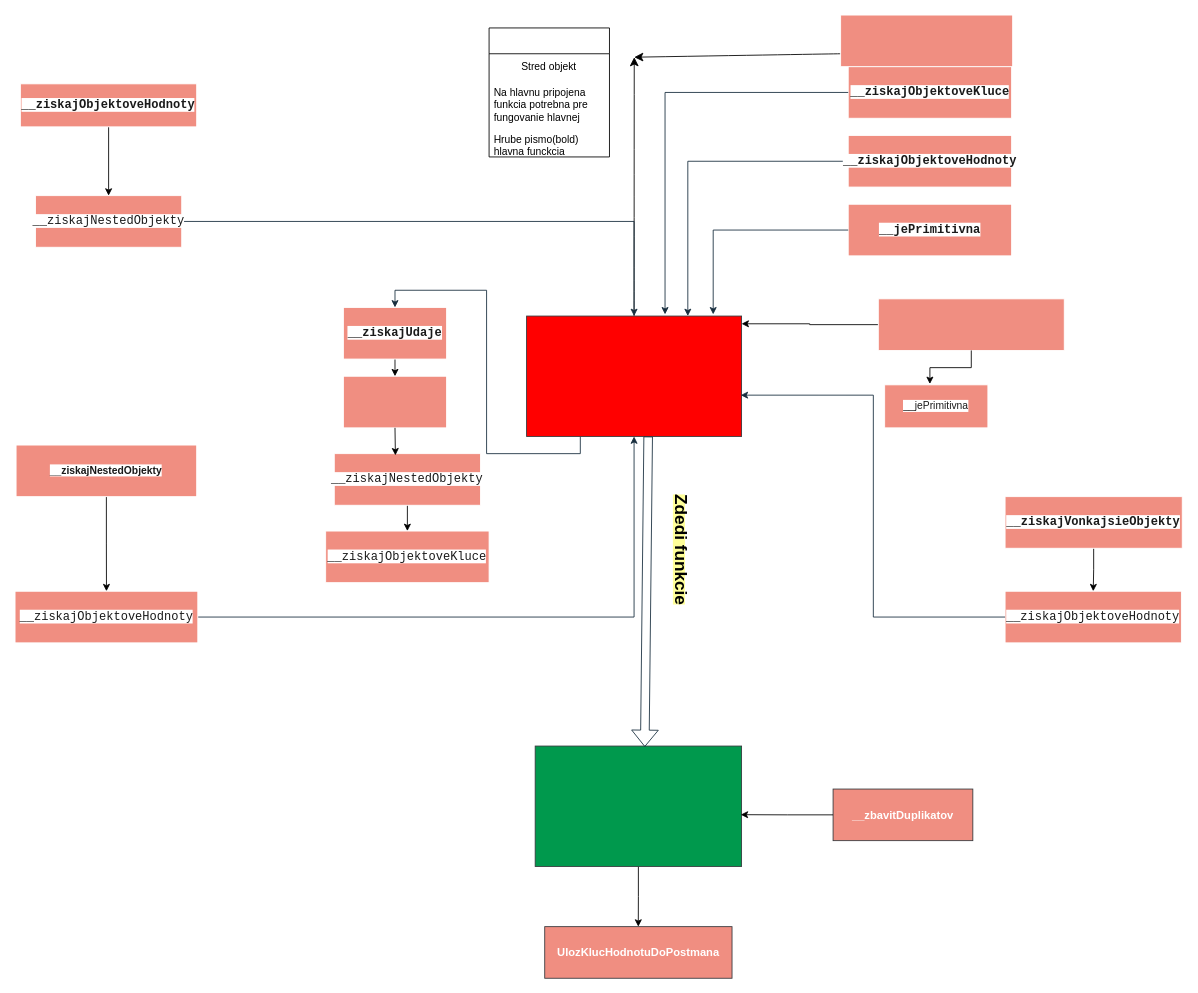
The diagram is 1198 pixels wide and 993 high, and some of its shapes have lost their labels. The box of each missing label's shape, as (x1, y1, x2, y2) in pixels:
__primitivne: (343, 375, 447, 428)
__ziskajJednoducheObjekty: (840, 14, 1013, 67)
__ziskajPrimitivneDoObjektu: (877, 298, 1064, 350)
Citanie: (488, 27, 609, 157)
Spracovanie dát: (534, 745, 742, 866)
ZiskavanieDatZoSluzieb: (526, 315, 742, 436)
